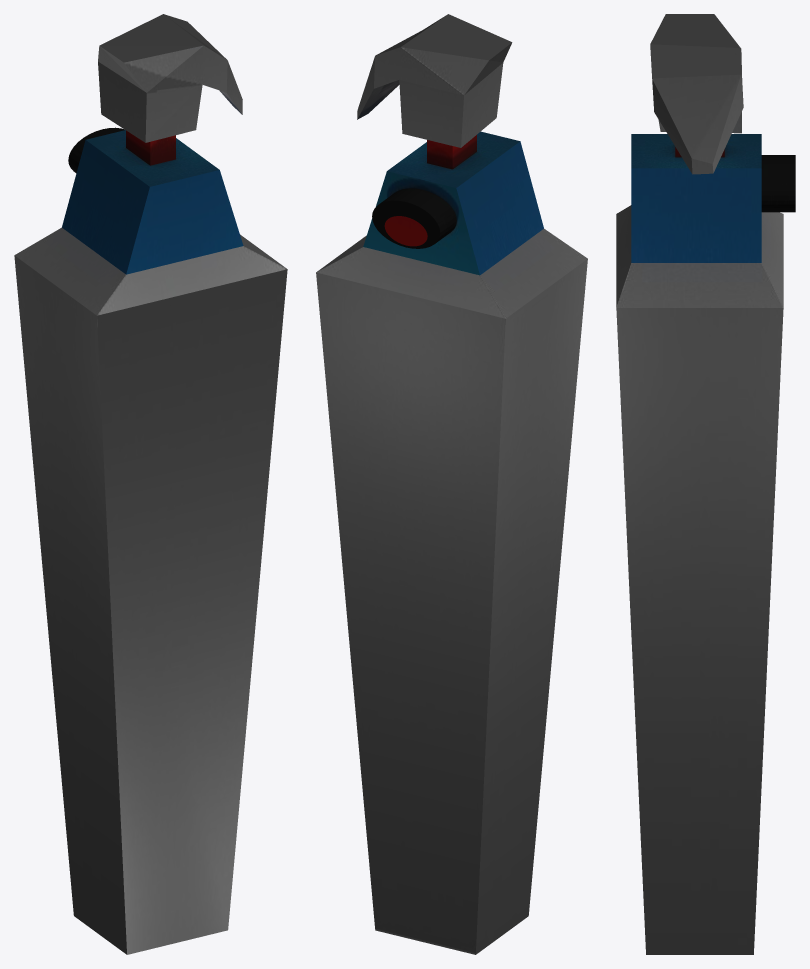
Rendered from pastrychef5.dae.
The picture shows the model from 3 angles, left to right: view 1: azimuth 30°, elevation 25°; view 2: azimuth 150°, elevation 25°; view 3: azimuth 270°, elevation 25°; orthographic projection.
Parts seen in each view (by area): view 1: thrower; view 2: thrower; view 3: thrower.
Part boxes in pixels (box(x1,y1,x2,y2)): thrower: box(14, 14, 287, 954); thrower: box(316, 14, 587, 954); thrower: box(616, 14, 795, 954).
Size of the model in its own units: 2 by 1.61 by 8.91.
Materials: 1 (1 with a texture image).
